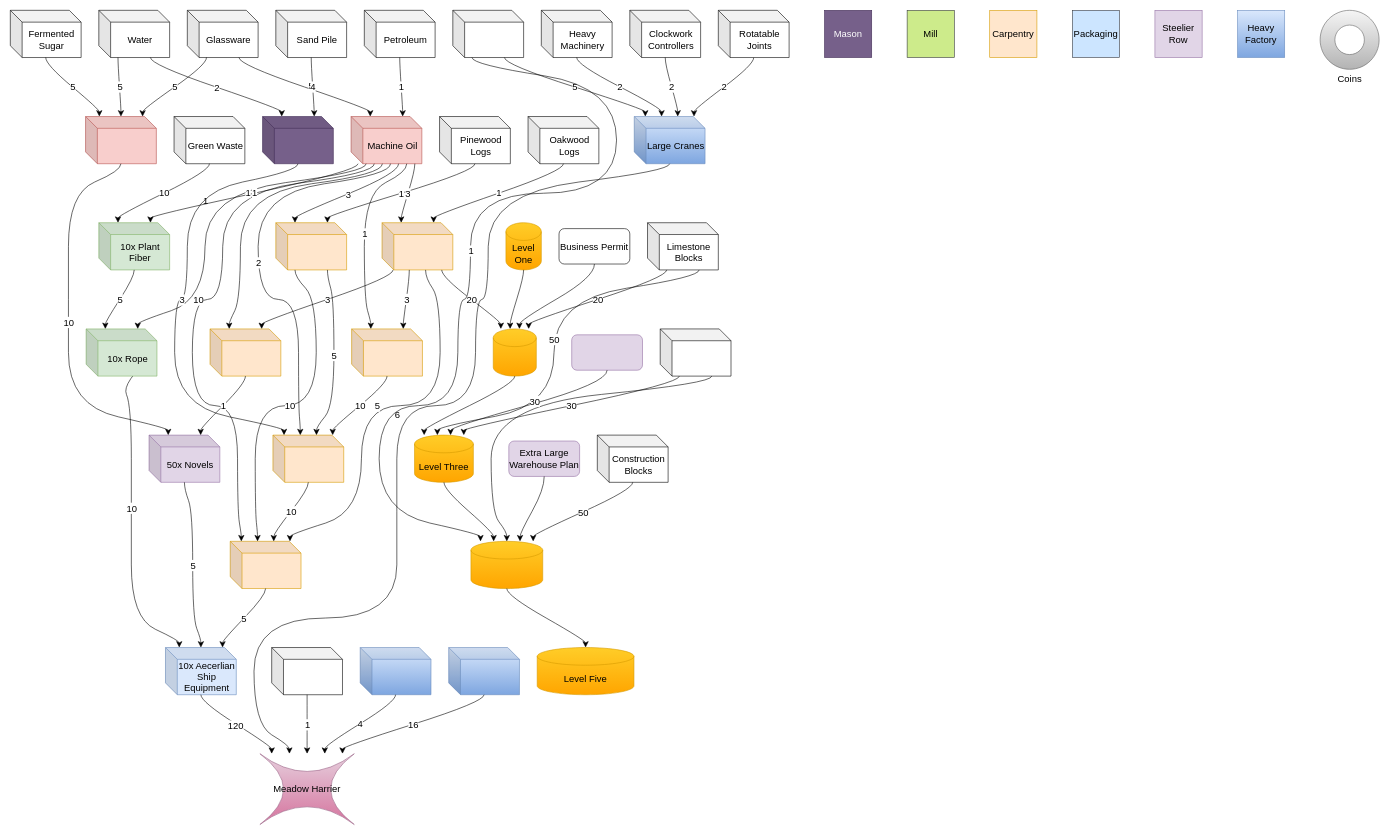
Some shapes in this 1389 by 835 pixel diagram are drawn without their labels. Here are the shapes that lost their labels. From the top down, the centre of each, then its label:
the point at 488,34: Crane Components
the point at 120,140: Hard Liquers
the point at 297,140: Fine Sand
the point at 311,246: 20x Pinewood Planks
the point at 417,246: 20x Oakwood Planks
the point at 245,352: Empty Crates
the point at 386,352: 40x Wooden Palettes
the point at 514,352: Level Two
the point at 607,352: Large Warehouse Plan
the point at 695,352: Steel Beams
the point at 308,458: 20x Pinewood Shafts
the point at 265,565: 20x Furniture
the point at 506,565: Level Four
the point at 306,671: Large Metal Rudders
the point at 395,671: XL Mana Sail Rigging
the point at 483,671: XL Aecerlian Frames
